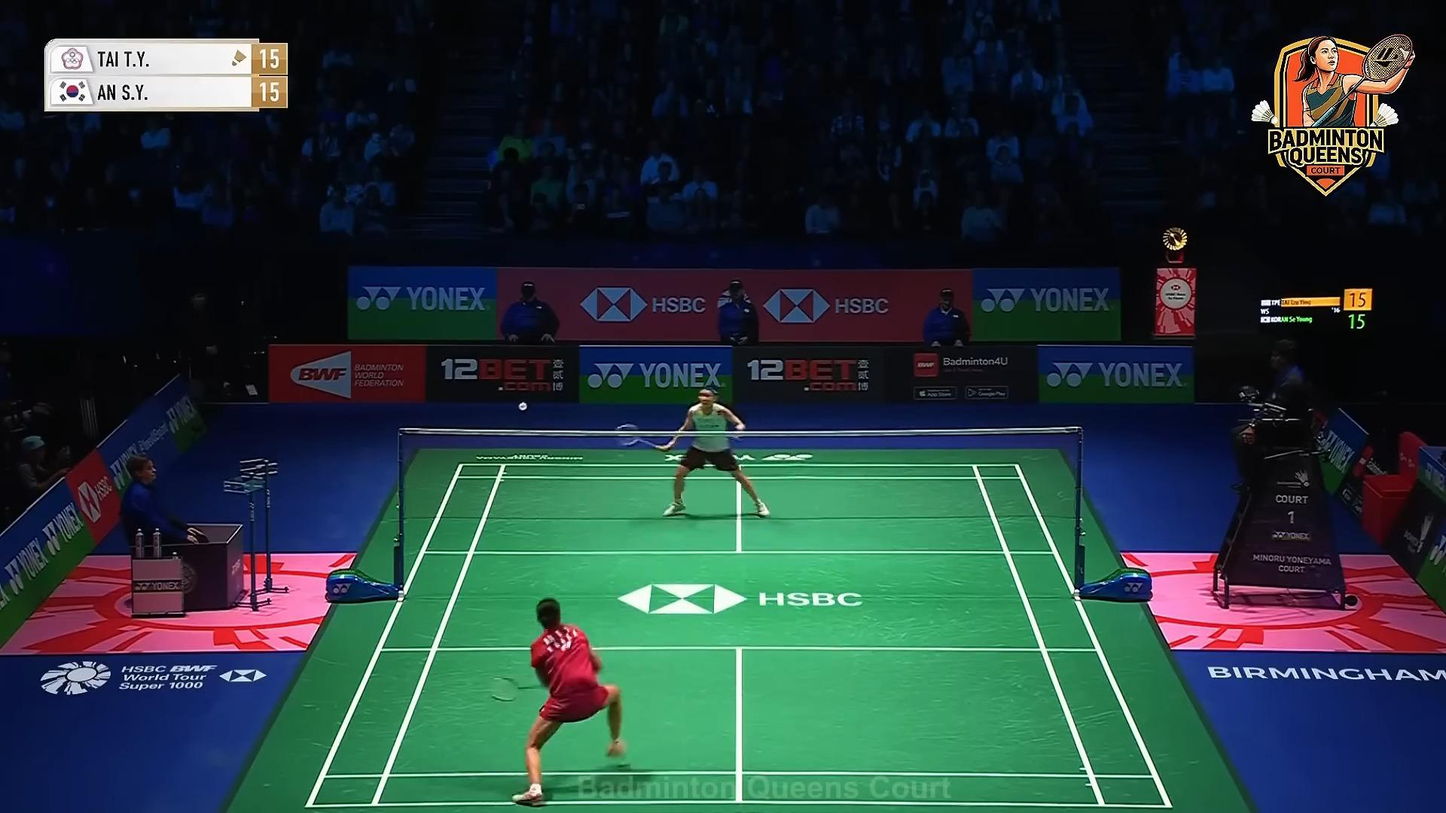shuttlecock: (518, 401, 528, 412)
